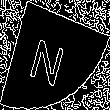N_N: (33, 25, 77, 85)
